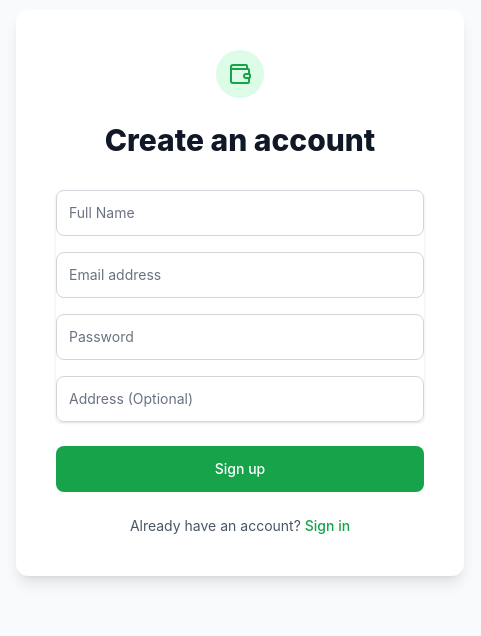
it: Register Component › shows error message on registration failure
Type "John" into the field with placeholder "Full Name".
click(240, 213); type("John")  # box left=56, top=190, right=424, bottom=236
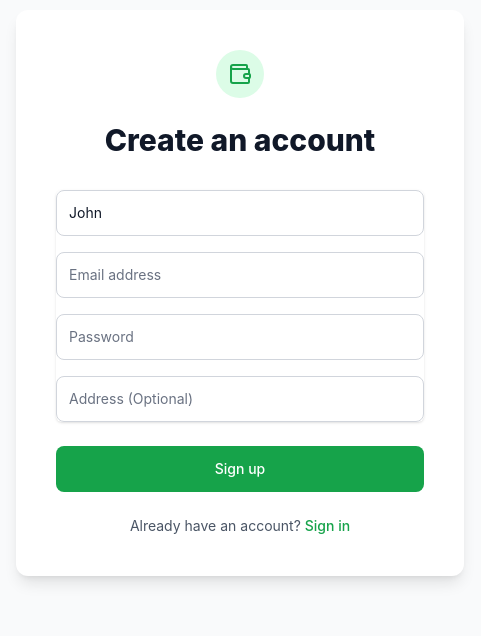
Type "test@test.com" into the field with placeholder "Email address".
click(240, 275); type("test@test.com")  # box left=56, top=252, right=424, bottom=298
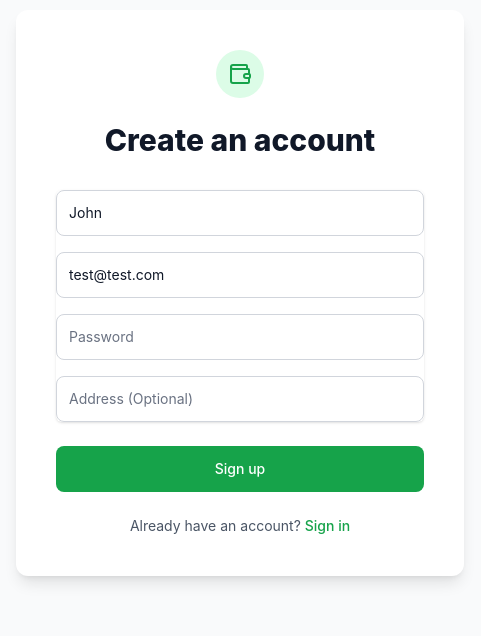
Type "wrongpass" into the password field with placeholder "Password".
click(240, 337); type("wrongpass")  # box left=56, top=314, right=424, bottom=360
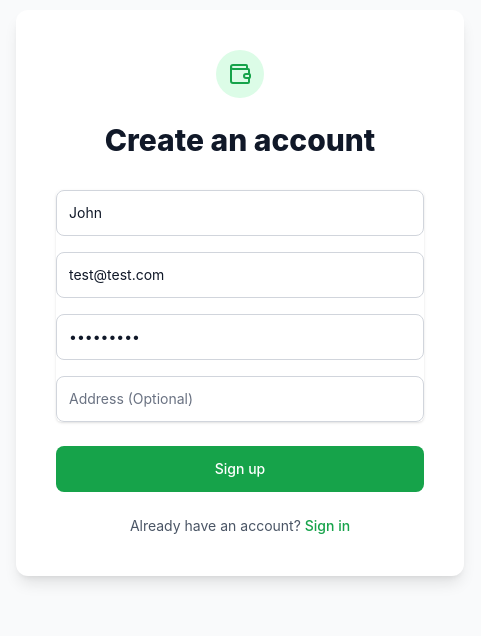
Click the button "Sign up".
click(240, 469)  # box left=56, top=446, right=424, bottom=492
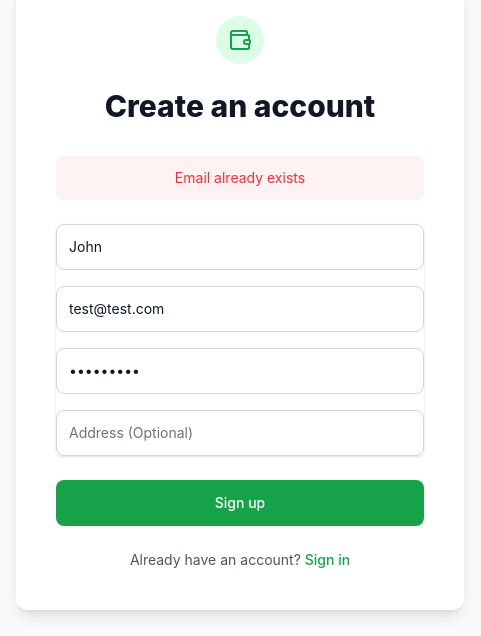
Expected: the text "Email already exists" is shown, left=56, top=156, right=424, bottom=200
